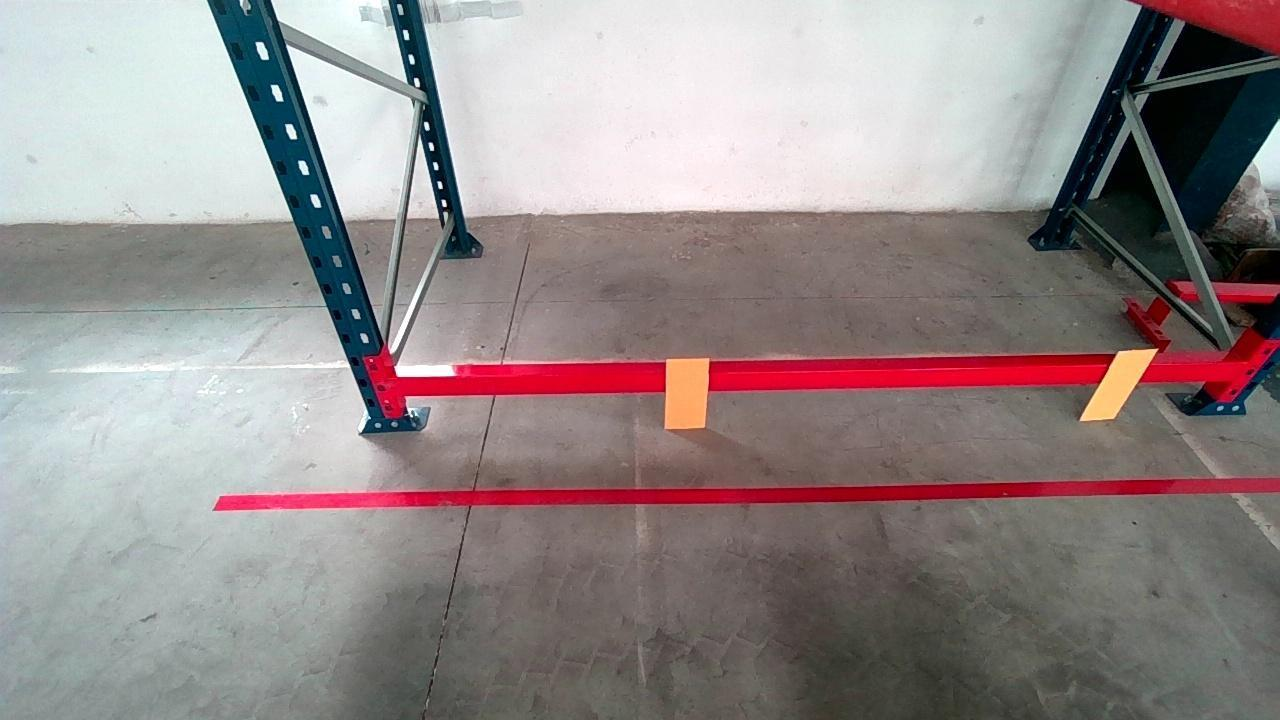h_rack: (395, 346, 1237, 395)
orange_strip: (1082, 349, 1157, 420), (665, 356, 708, 427)
red_line: (213, 475, 1269, 513)
